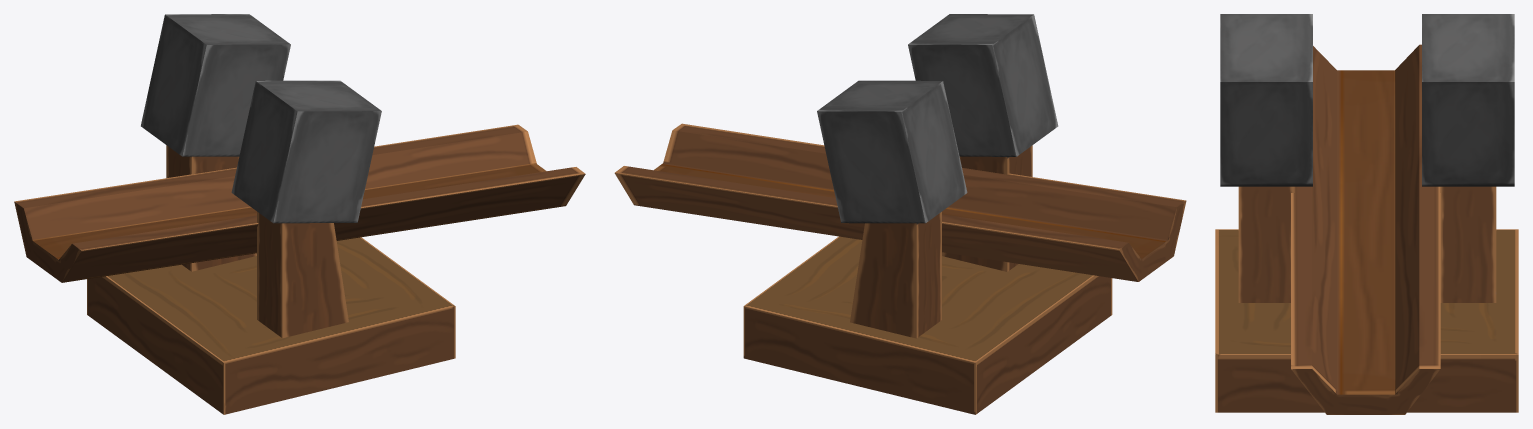
File: Level 1.FBX
3 renders of one model, left to right at view 1: azimuth 30°, elevation 25°; view 2: azimuth 150°, elevation 25°; view 3: azimuth 270°, elevation 25°, orthographic. The views are drawn at different scales.
Parts seen in each view (by area): view 1: Box251; view 2: Box251; view 3: Box251.
Part boxes in pixels (x1,y1,x2,y2): Box251: (14,14,585,414); Box251: (614,14,1186,414); Box251: (1215,14,1518,414).
Bounding box in the file's own units: 41.72 × 22.24 × 19.45.
